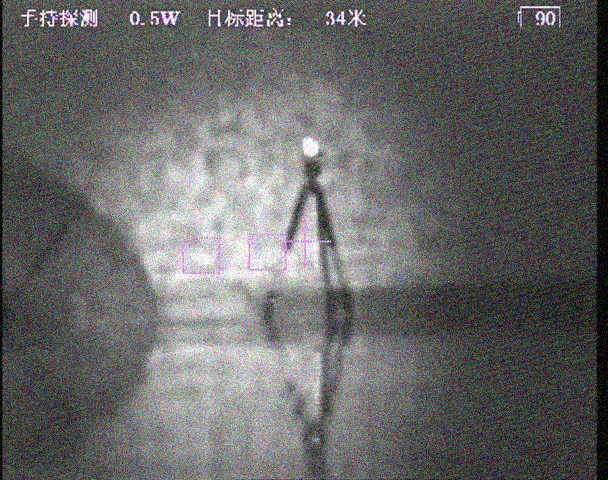my: (300, 135, 322, 158)
